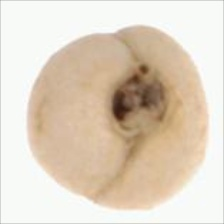L3: (108, 64, 174, 145)
L4: (27, 25, 209, 210)
